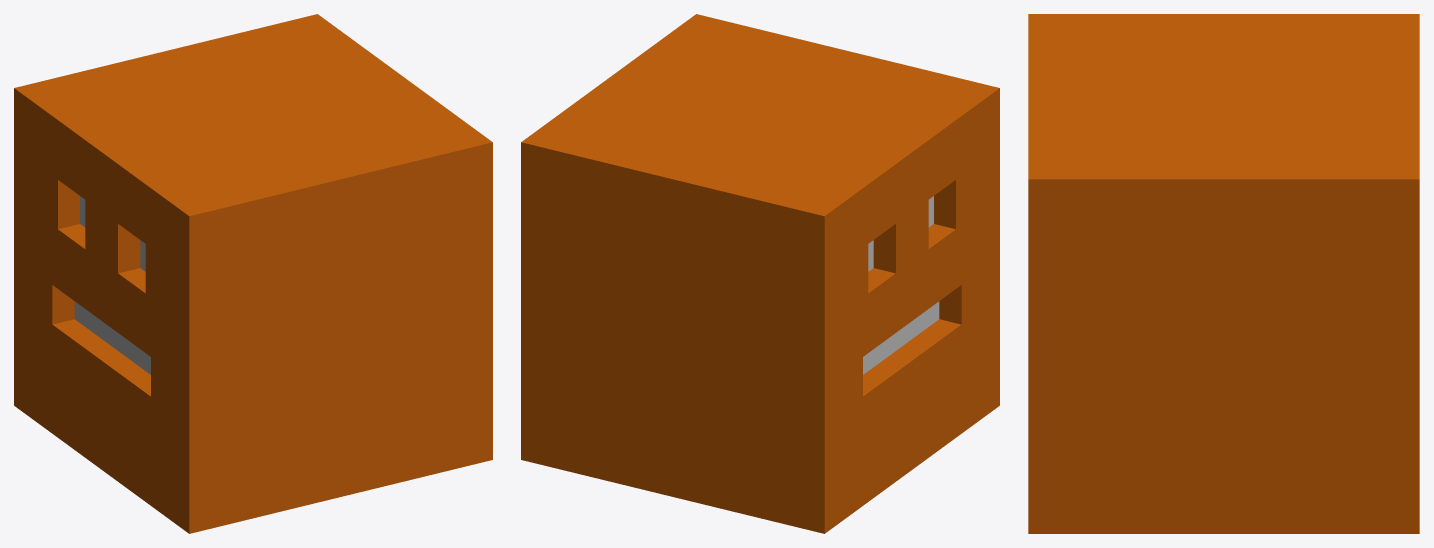
File: cubeanimation.fbx
The picture shows the model from 3 angles, left to right: view 1: azimuth 30°, elevation 25°; view 2: azimuth 150°, elevation 25°; view 3: azimuth 270°, elevation 25°; orthographic projection. The views are drawn at different scales.
Visible parts, largest first — view 1: Cube.001; view 2: Cube.001; view 3: Cube.001.
Boxes of the visible parts, x1,y1,x2,y2 form: Cube.001: [14, 14, 492, 533]; Cube.001: [521, 14, 999, 533]; Cube.001: [1028, 14, 1419, 533].
Size of the model in its own units: 200 by 200 by 200.
